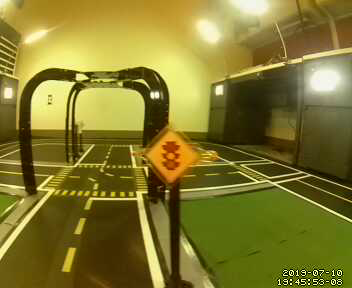Traffic light sign: (144, 130, 195, 183)
